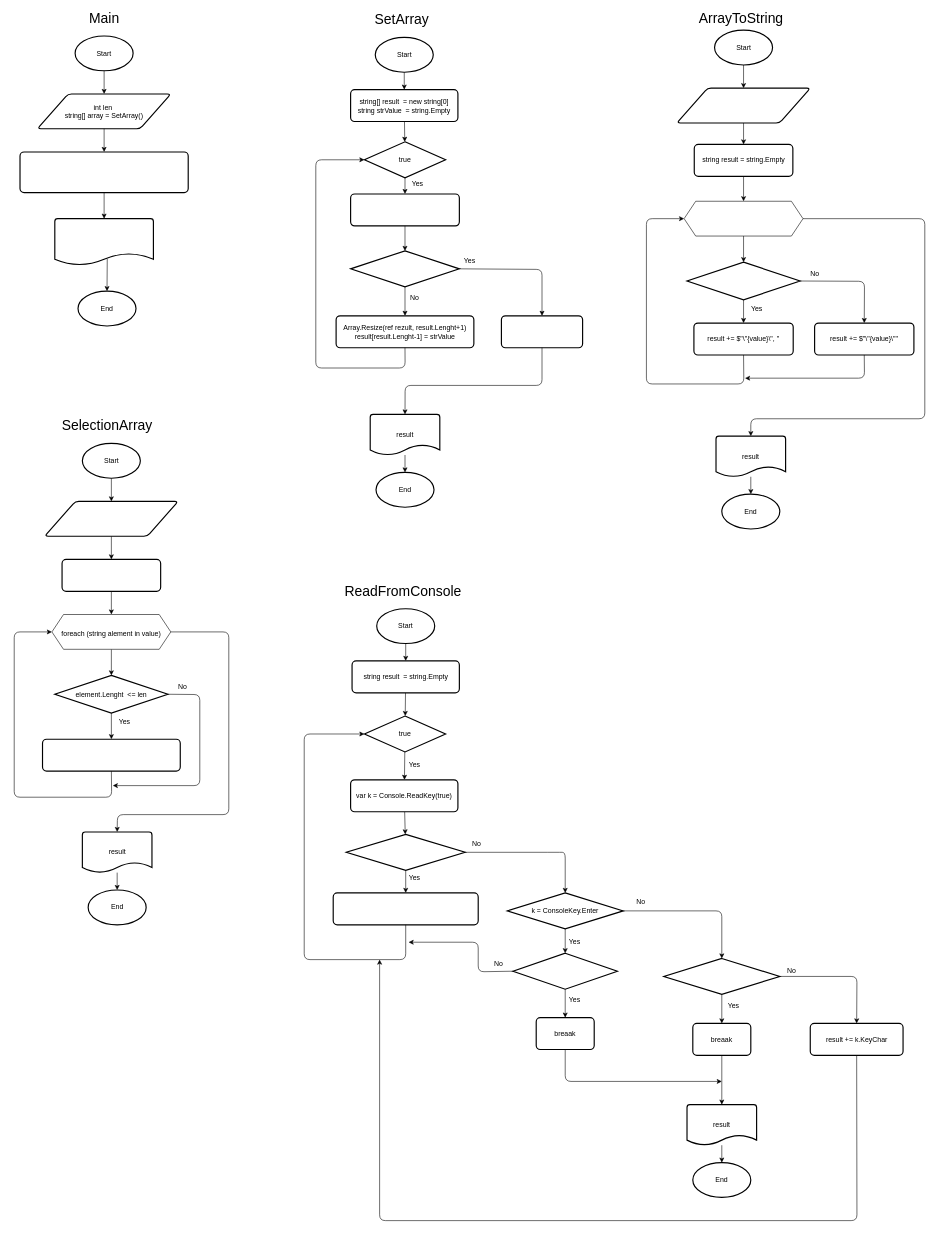
The diagram is 940 pixels wide and 1235 high, and some of its shapes have lost their labels. The centre of each missing label's shape, as x and y in pixels:
"array selectionArray" goes at point 104,241.
"Array.Resize(ref rezult, result.Lenght+1) result[result.Lenght-1] = element" goes at point 111,754.
"break" goes at point 542,331.
"i+1 != value.Lenght" goes at point 743,280.
"int i=0; i<value.Lenght; i++" goes at point 743,218.
"int len string[] value" goes at point 111,518.
"k = ConsoleKey.Backspace" goes at point 405,852.
"k = ConsoleKey.Esc" goes at point 721,976.
"result != string.Empty" goes at point 565,970.
"result = result.Remove(result.Lenght - 1, 1)" goes at point 405,908.
"string[] result = new string[0]" goes at point 111,575.
"string[] seletionArray = SelectionArray(array, len)" goes at point 103,172.
"string[] value" goes at point 743,105.
"strValue = ReadFromConsole()" goes at point 405,209.
"strvalue = string.Empty" goes at point 405,268.
